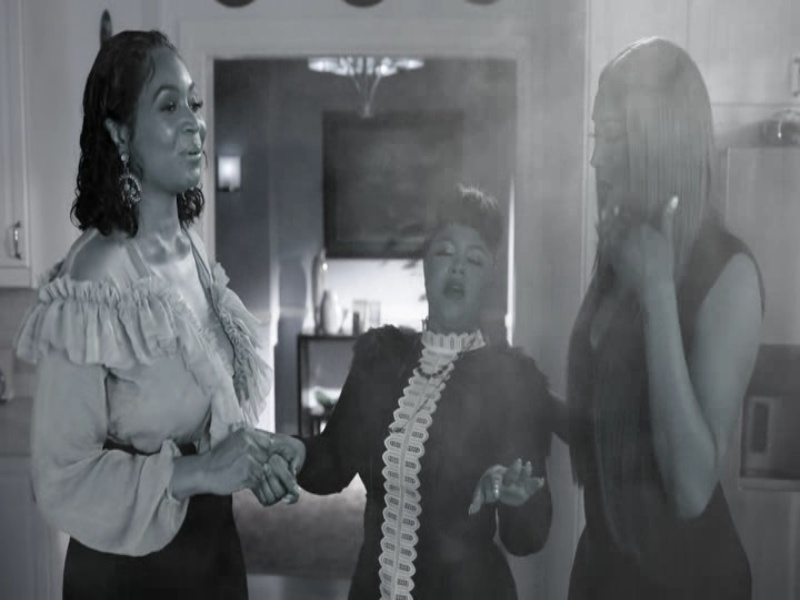TsisyArotava: (110, 27, 228, 210), (421, 205, 505, 344)
